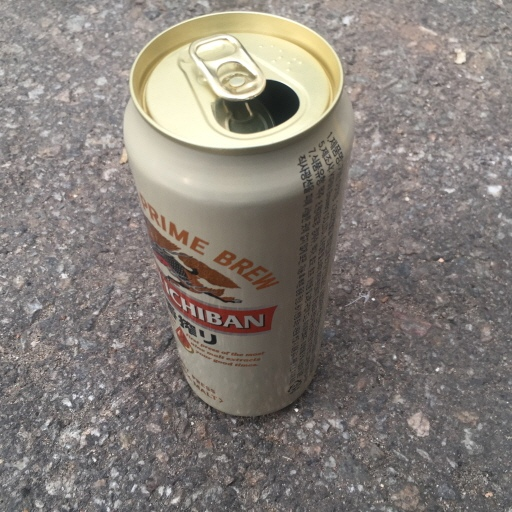Metal_0: (117, 9, 354, 419)
